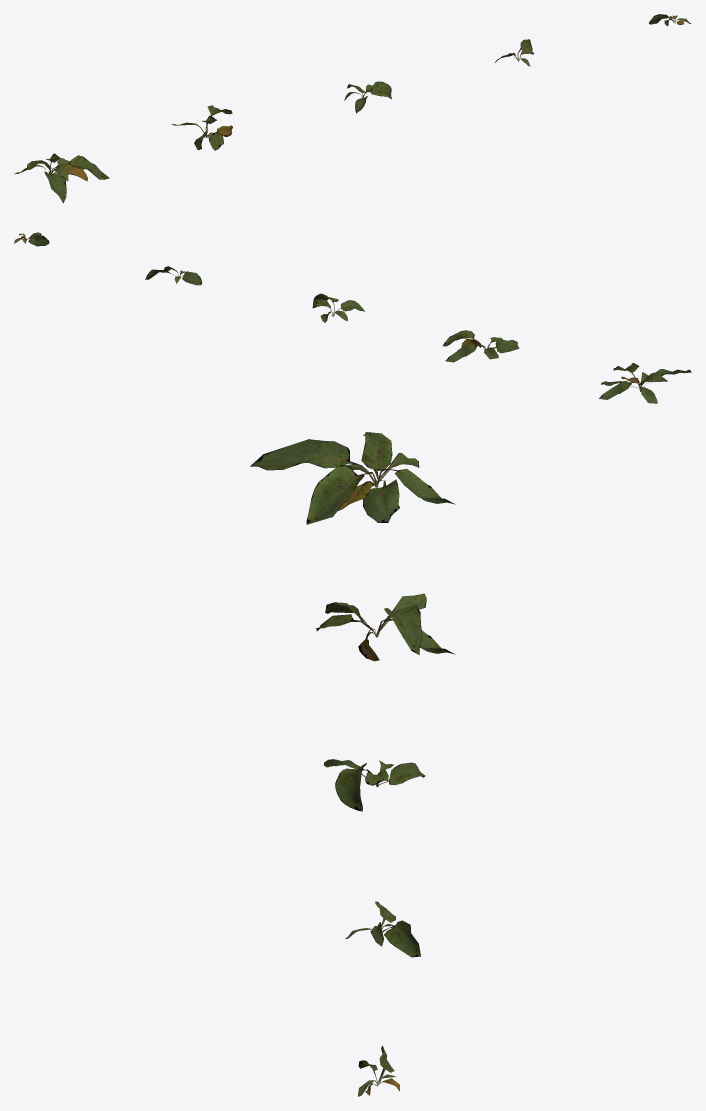
File: weed_plant_02.glb
3 renders of one model, top to bottom at view 1: azimuth 30°, elevation 25°; view 2: azimuth 150°, elevation 25°; view 3: azimuth 270°, elevation 25°, orthographic. The views are drawn at different scales.
Visible parts, largest first — view 1: weed_plant_02_a_LOD0, weed_plant_02_c_LOD0; view 2: weed_plant_02_a_LOD0, weed_plant_02_c_LOD0; view 3: weed_plant_02_a_LOD0, weed_plant_02_c_LOD0.
Part boxes in pixels (left/top/right/bottom): weed_plant_02_a_LOD0: left=14, top=14, right=691, bottom=203; weed_plant_02_c_LOD0: left=344, top=81, right=391, bottom=113; weed_plant_02_a_LOD0: left=14, top=232, right=691, bottom=403; weed_plant_02_c_LOD0: left=312, top=293, right=365, bottom=322; weed_plant_02_a_LOD0: left=250, top=432, right=455, bottom=1096; weed_plant_02_c_LOD0: left=324, top=759, right=425, bottom=811.
Bounding box in the file's own units: 2.13 × 0.0745 × 0.2908.
Materials: 1 (1 with a texture image).
